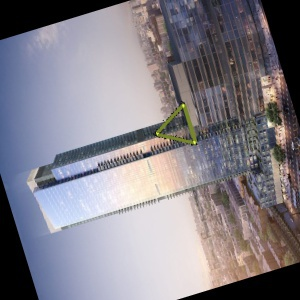triangle: (154, 100, 199, 148)
